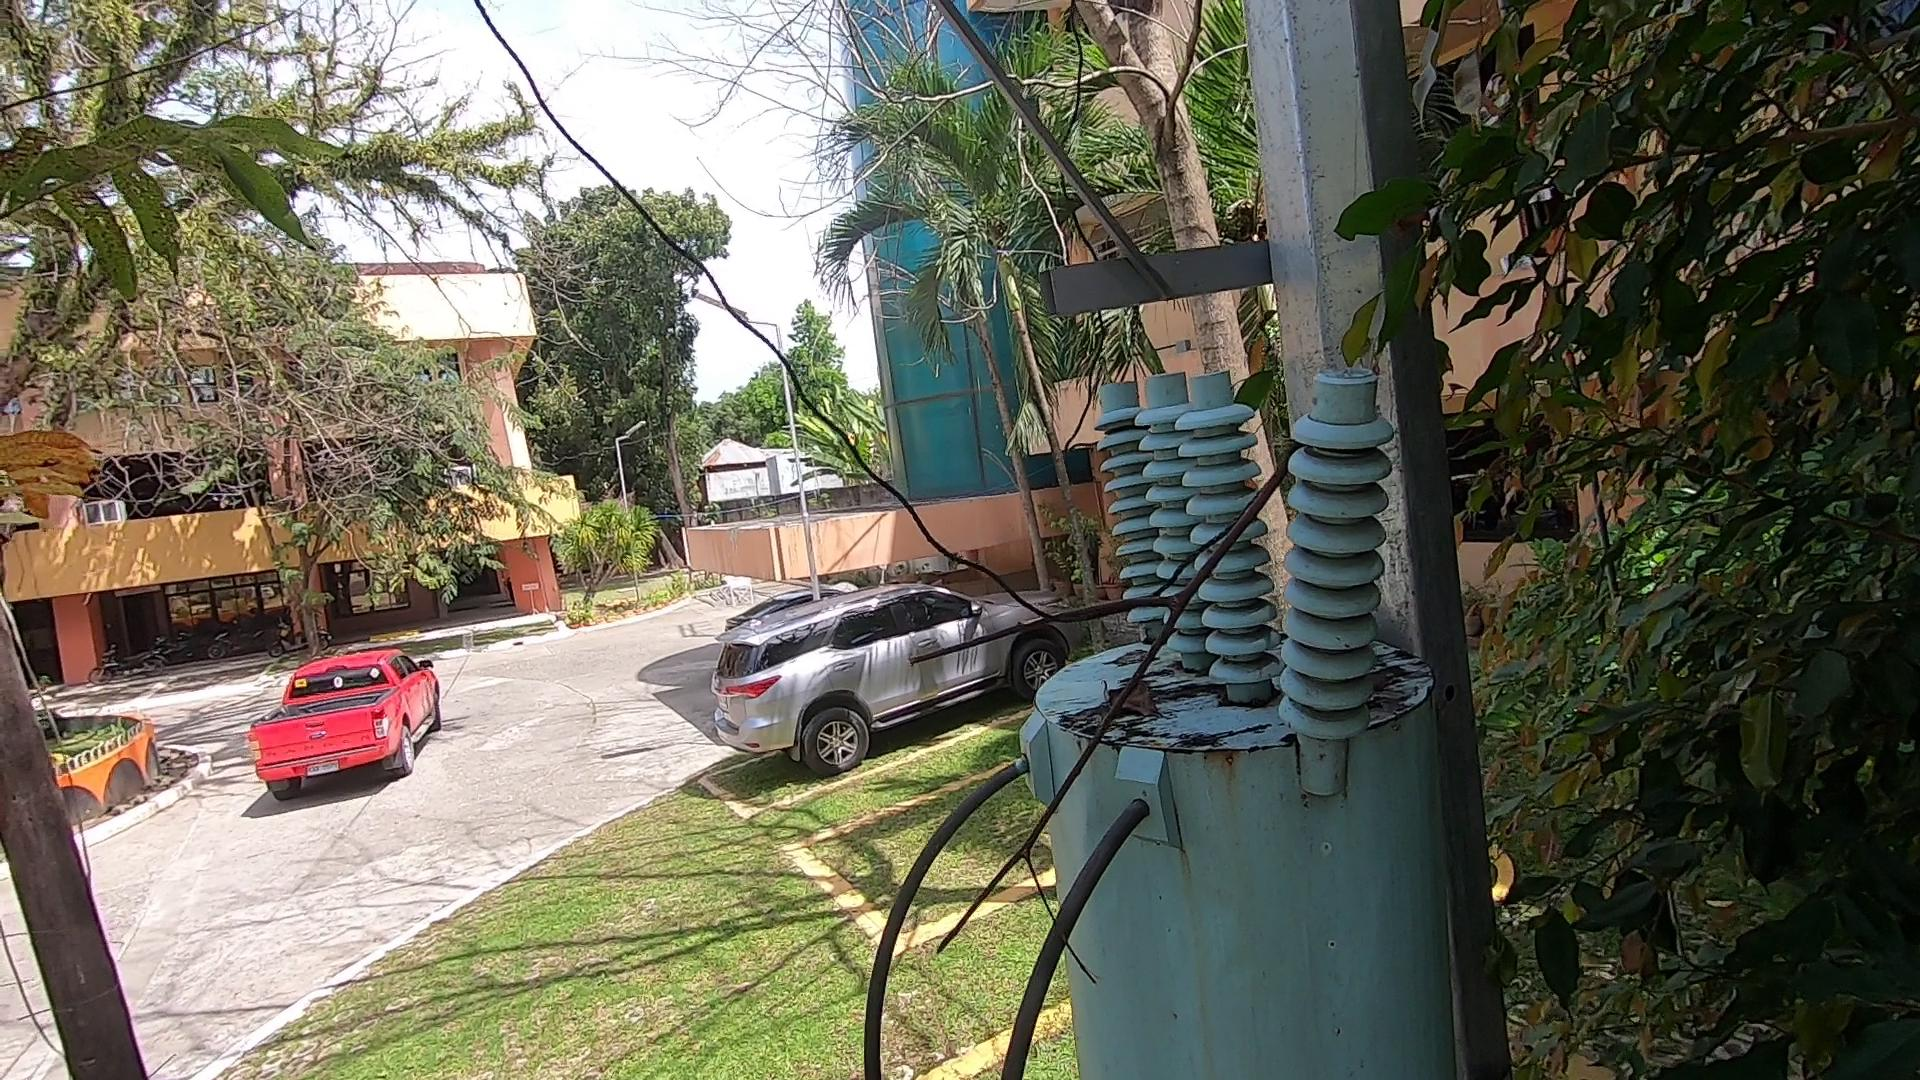leaf: (1091, 662, 1163, 723)
tree branch: (897, 430, 1367, 982)
